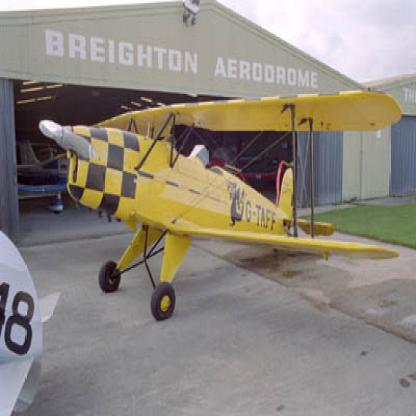CIV_Plane: (34, 83, 409, 340)
